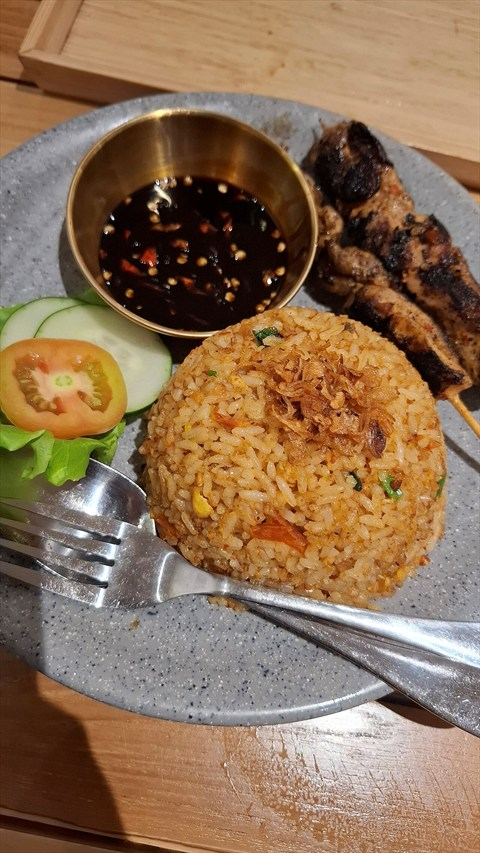Nasi Goreng: (67, 112, 443, 655)
